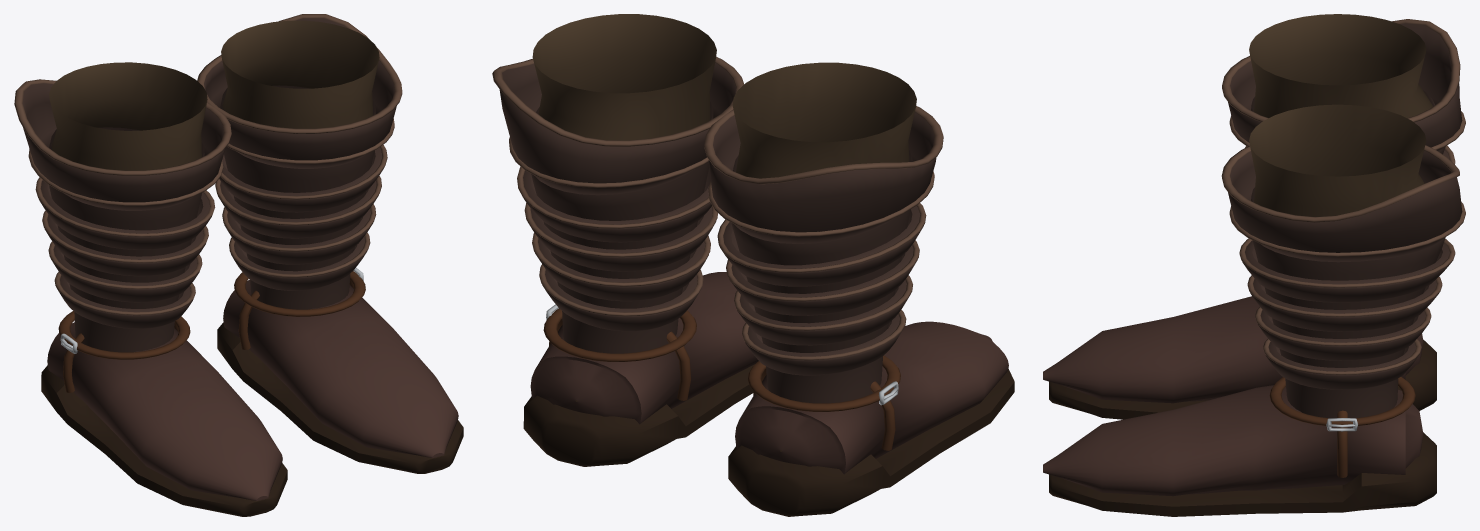
The model's file is f_ranger_d.glb.
3 views of the same model, side by side, from view 1: azimuth 30°, elevation 25°; view 2: azimuth 150°, elevation 25°; view 3: azimuth 270°, elevation 25° (orthographic). The views are drawn at different scales.
Visible parts, largest first — view 1: LegR_Boot, LegL_Boot, LegL_BootFoot, LegR_BootFoot; view 2: LegR_Boot, LegL_Boot, LegR_BootFoot, LegL_BootFoot; view 3: LegL_Boot, LegL_BootFoot, LegR_Boot, LegR_BootFoot.
Part boxes in pixels (x1,y1,x2,y2): LegR_Boot: [14, 62, 231, 359]; LegL_Boot: [197, 14, 402, 316]; LegL_BootFoot: [217, 279, 463, 473]; LegR_BootFoot: [41, 322, 287, 516]; LegR_Boot: [704, 62, 943, 411]; LegL_Boot: [492, 14, 744, 361]; LegR_BootFoot: [728, 321, 1014, 516]; LegL_BootFoot: [523, 272, 758, 466]; LegL_Boot: [1221, 104, 1465, 431]; LegL_BootFoot: [1043, 385, 1436, 516]; LegR_Boot: [1222, 14, 1465, 164]; LegR_BootFoot: [1043, 296, 1436, 419].
Size of the model in its own units: 0.4396 by 0.385 by 0.4242.
